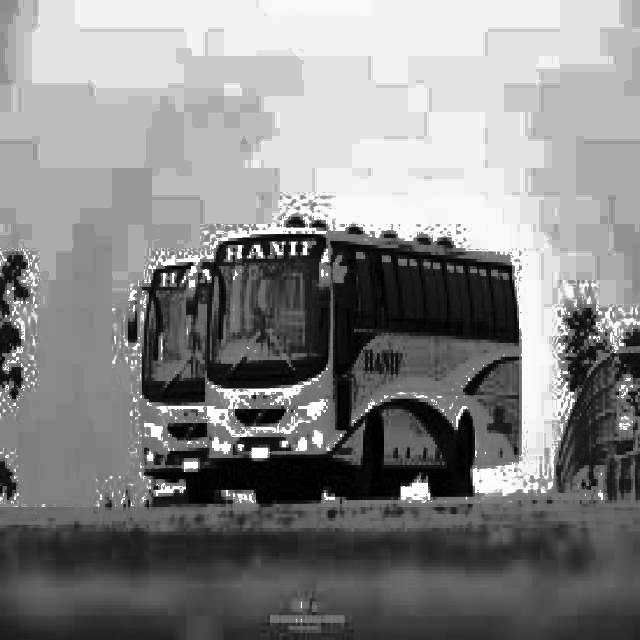Bus: (198, 210, 538, 495), (120, 212, 212, 492)
